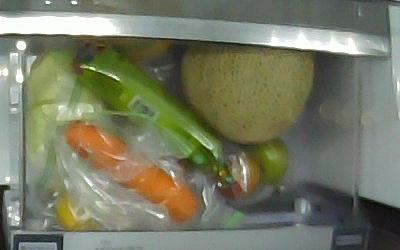cabbage_vinyl: (24, 48, 116, 170)
carrot_vinyl: (63, 121, 199, 221)
melon: (180, 42, 315, 145)
pear: (84, 38, 170, 60)
tangerine_vinyl: (55, 193, 96, 230)
tomato: (246, 137, 287, 185)
tomato_vinyl: (211, 144, 260, 200)
zucchini_vinyl: (72, 41, 242, 191)
